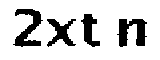2: (8, 6, 44, 50)
n: (117, 17, 149, 47)
t: (79, 11, 102, 49)
x: (47, 16, 78, 49)
